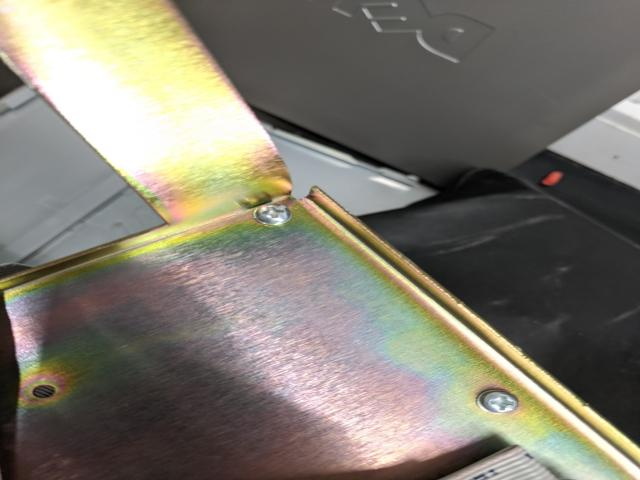CRS: (480, 389, 520, 413), (253, 203, 291, 224)
